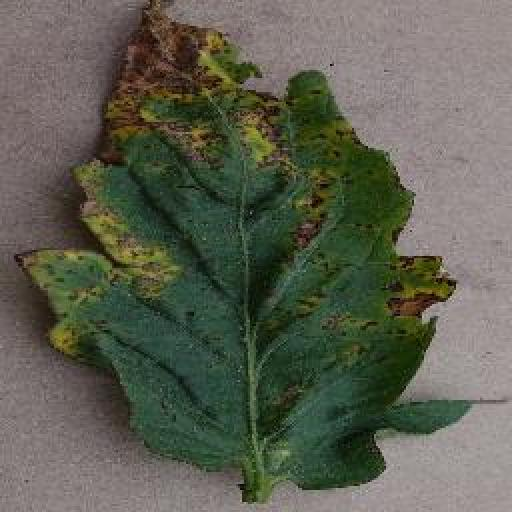Bacterial Spot: (6, 0, 510, 495)
